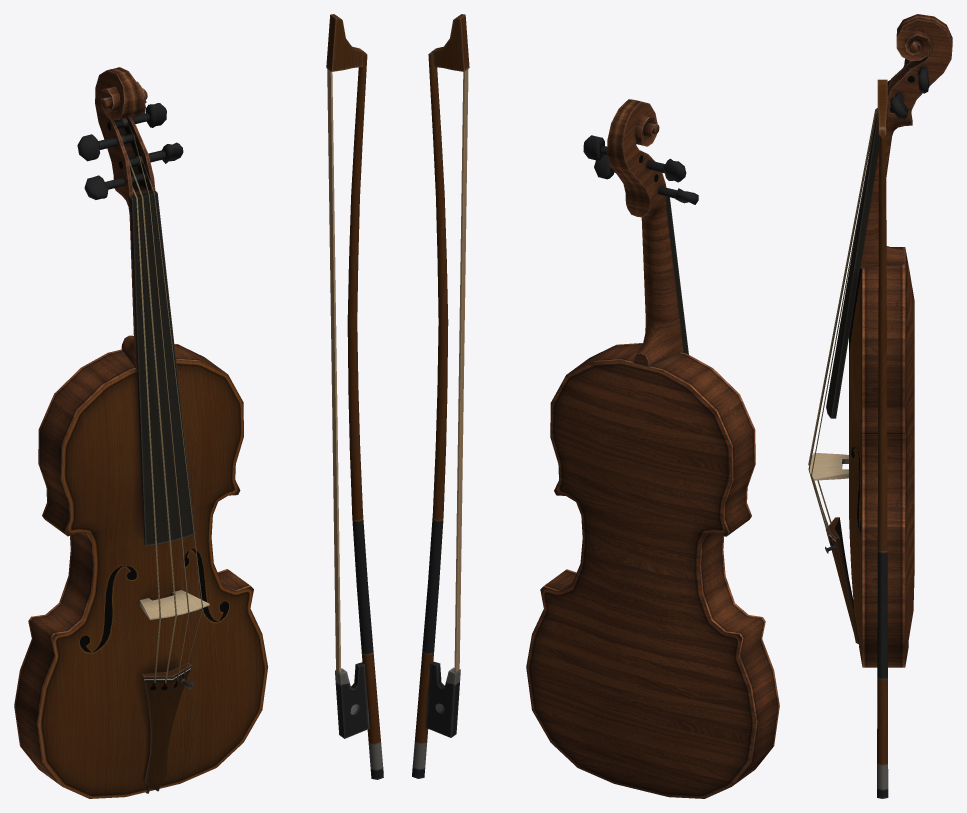
Rendered from Violin.FBX.
3 views of the same model, side by side, from view 1: azimuth 30°, elevation 25°; view 2: azimuth 150°, elevation 25°; view 3: azimuth 270°, elevation 25° (orthographic). The views are drawn at different scales.
Parts seen in each view (by area): view 1: Violin, ViolinBow; view 2: Violin, ViolinBow; view 3: Violin, ViolinBow.
Part boxes in pixels (left/top/right/bottom): Violin: left=14, top=67, right=267, bottom=798; ViolinBow: left=326, top=14, right=383, bottom=779; Violin: left=526, top=99, right=779, bottom=798; ViolinBow: left=412, top=14, right=469, bottom=778; Violin: left=808, top=14, right=952, bottom=667; ViolinBow: left=877, top=79, right=888, bottom=798.
Bounding box in the file's own units: 31.96 × 65.99 × 12.37.
1 material, 1 textured.
